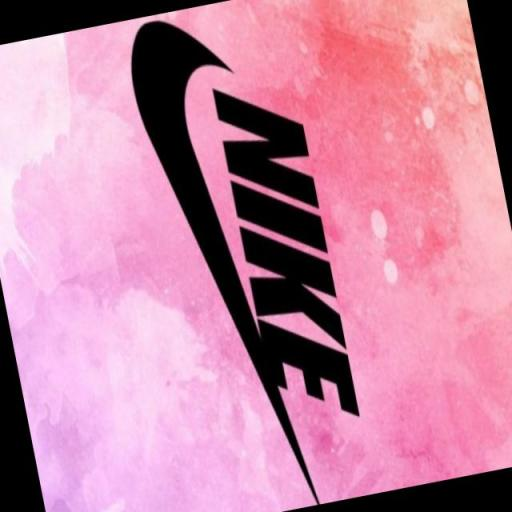Nike: (121, 16, 294, 462), (207, 70, 363, 438)
